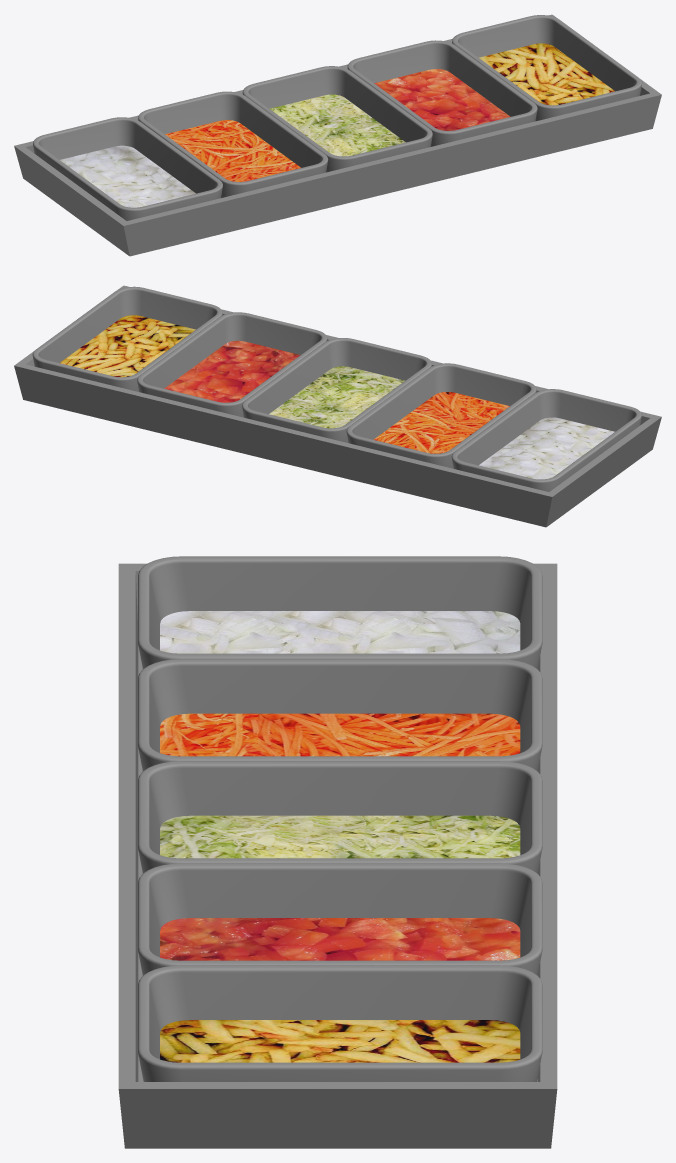
Rendered from Bar food.FBX.
3 views of the same model, one above another, from view 1: azimuth 30°, elevation 25°; view 2: azimuth 150°, elevation 25°; view 3: azimuth 270°, elevation 25° (orthographic). The views are drawn at different scales.
Visible parts, largest first — view 1: bar food; view 2: bar food; view 3: bar food.
Boxes of the visible parts, x1,y1,x2,y2 form: bar food: (14, 14, 661, 256); bar food: (14, 285, 661, 527); bar food: (118, 556, 557, 1148).
Size of the model in its own units: 116 by 8.49 by 40.95.
2 materials, 1 textured.
